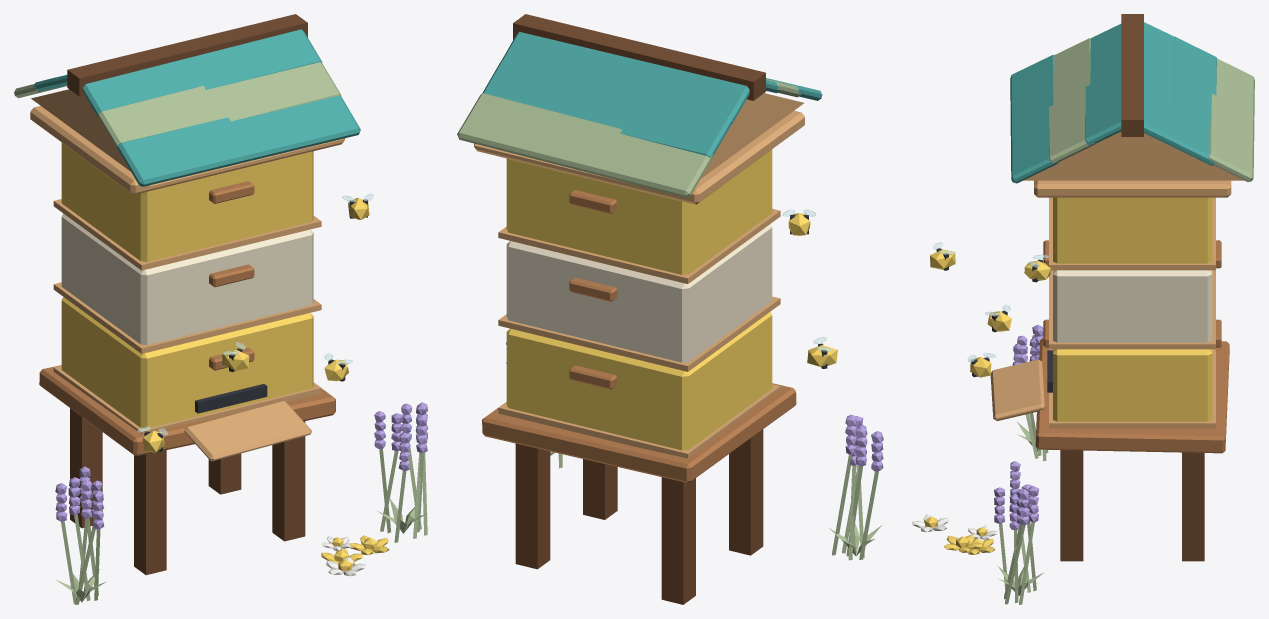
The model's file is beehive.glb.
The picture shows the model from 3 angles, left to right: view 1: azimuth 30°, elevation 25°; view 2: azimuth 150°, elevation 25°; view 3: azimuth 270°, elevation 25°; orthographic projection. The views are drawn at different scales.
Parts seen in each view (by area): view 1: Beehive; view 2: Beehive; view 3: Beehive.
Part boxes in pixels (bbox=[...]): Beehive: bbox=[14, 14, 428, 604]; Beehive: bbox=[457, 14, 883, 604]; Beehive: bbox=[912, 14, 1254, 604].
Bounding box in the file's own units: 1.05 × 1.33 × 0.9034.
2 materials, 1 textured.
